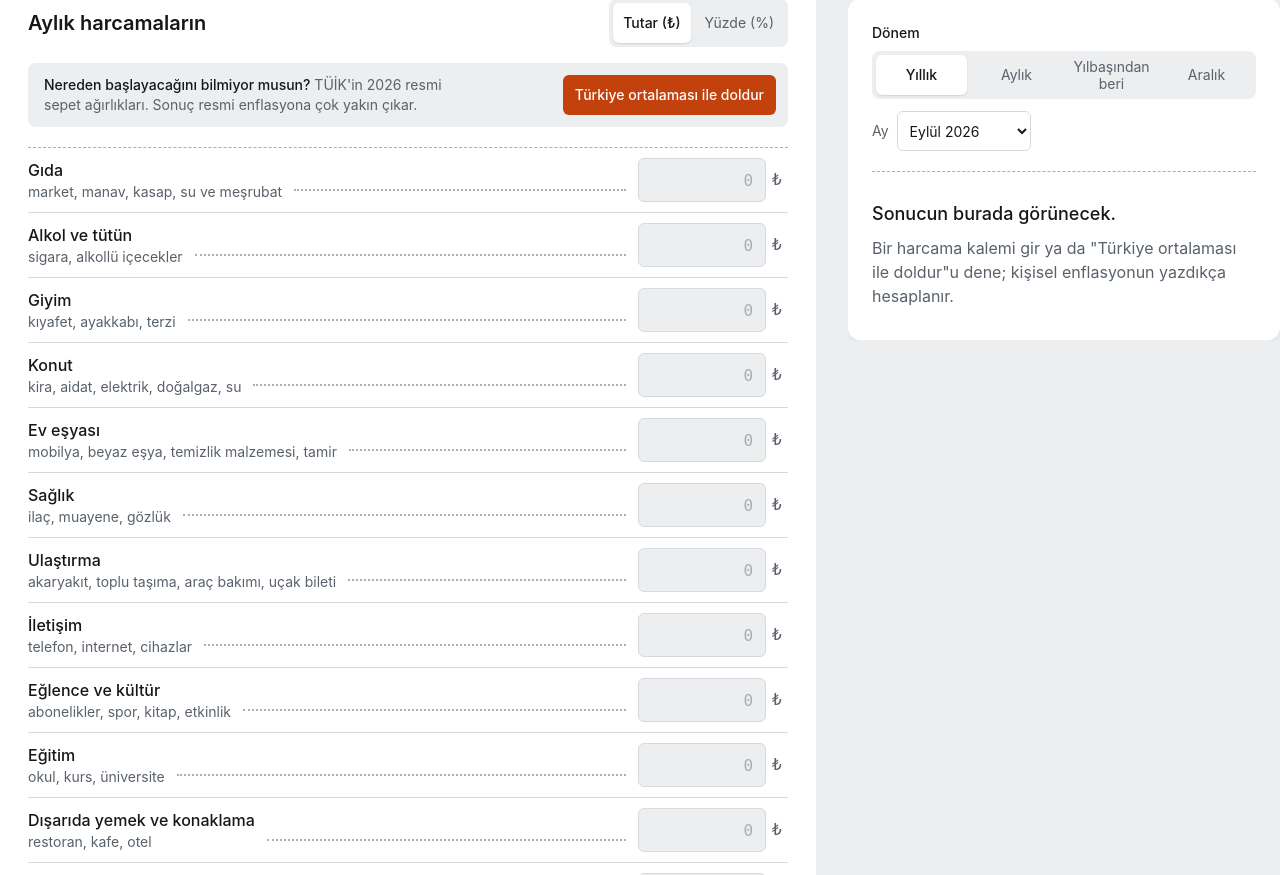
Scenario: Calculator › yüzde toplamı 100 değilse uyarır ve 100'e tamamlar
Click the radio button labelled "Yüzde (%)".
click(739, 23)  # box [705, 14, 774, 31]
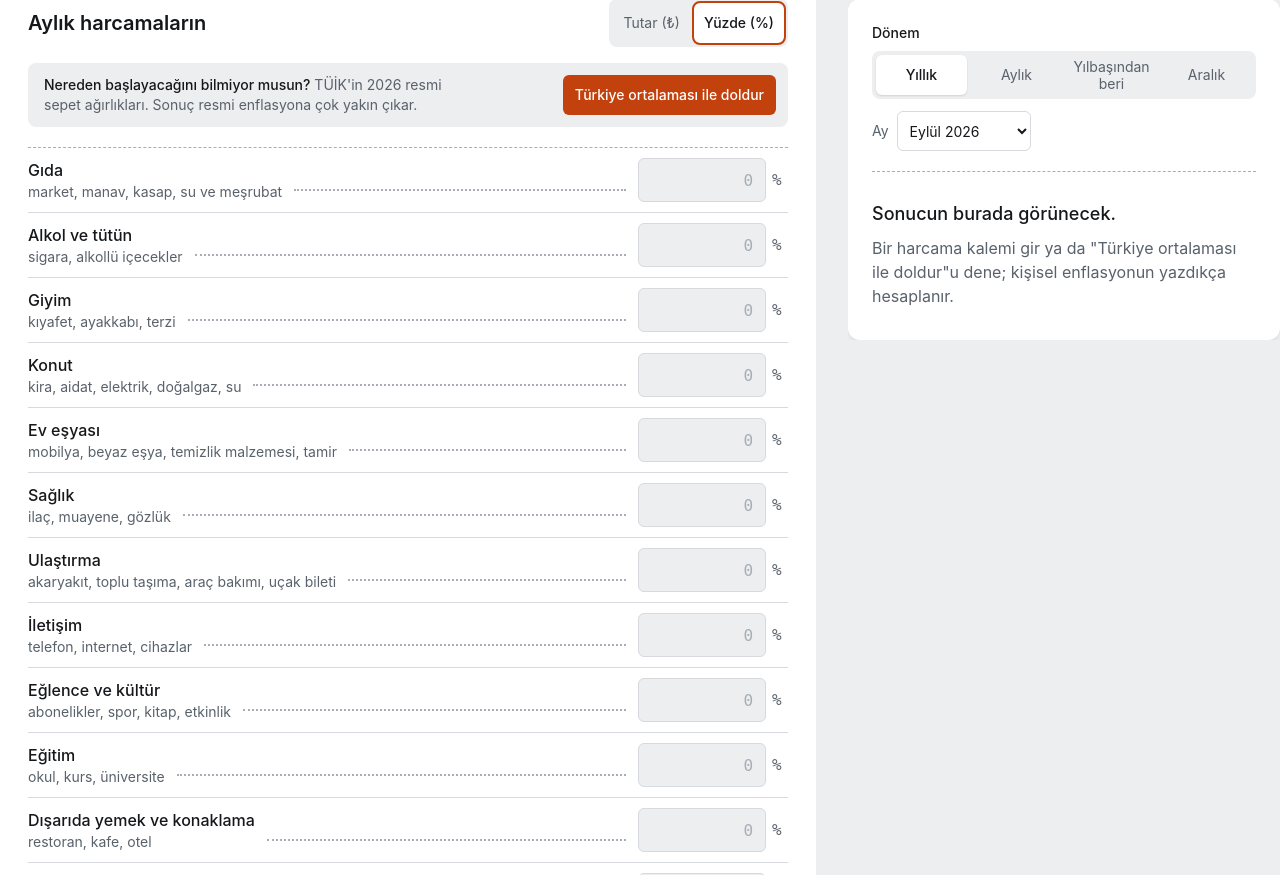
Type "60" into the field labelled "Gıda".
click(702, 180); type("60")  # box [638, 158, 766, 202]
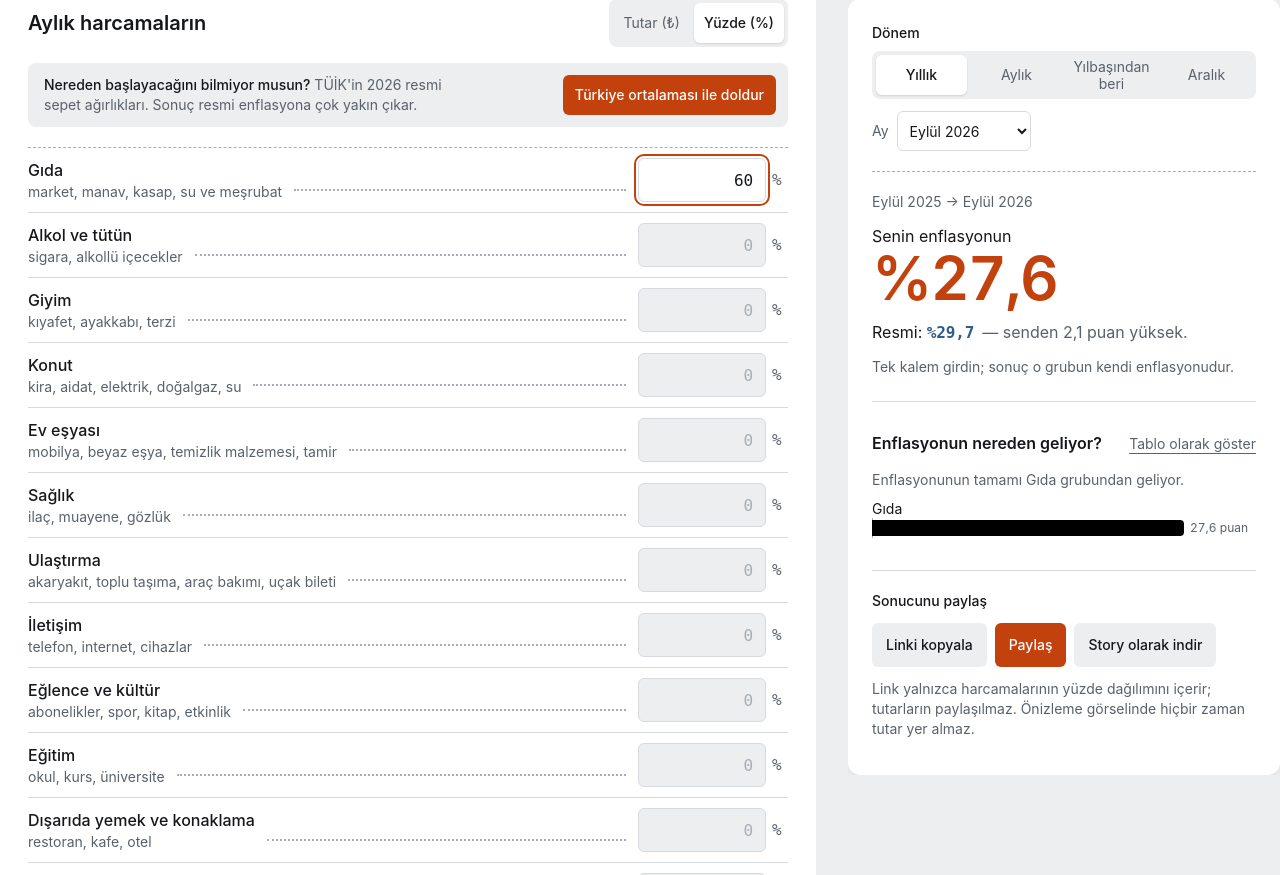
Type "60" into the field labelled "Konut".
click(702, 375); type("60")  # box [638, 353, 766, 397]
(page scrolled)
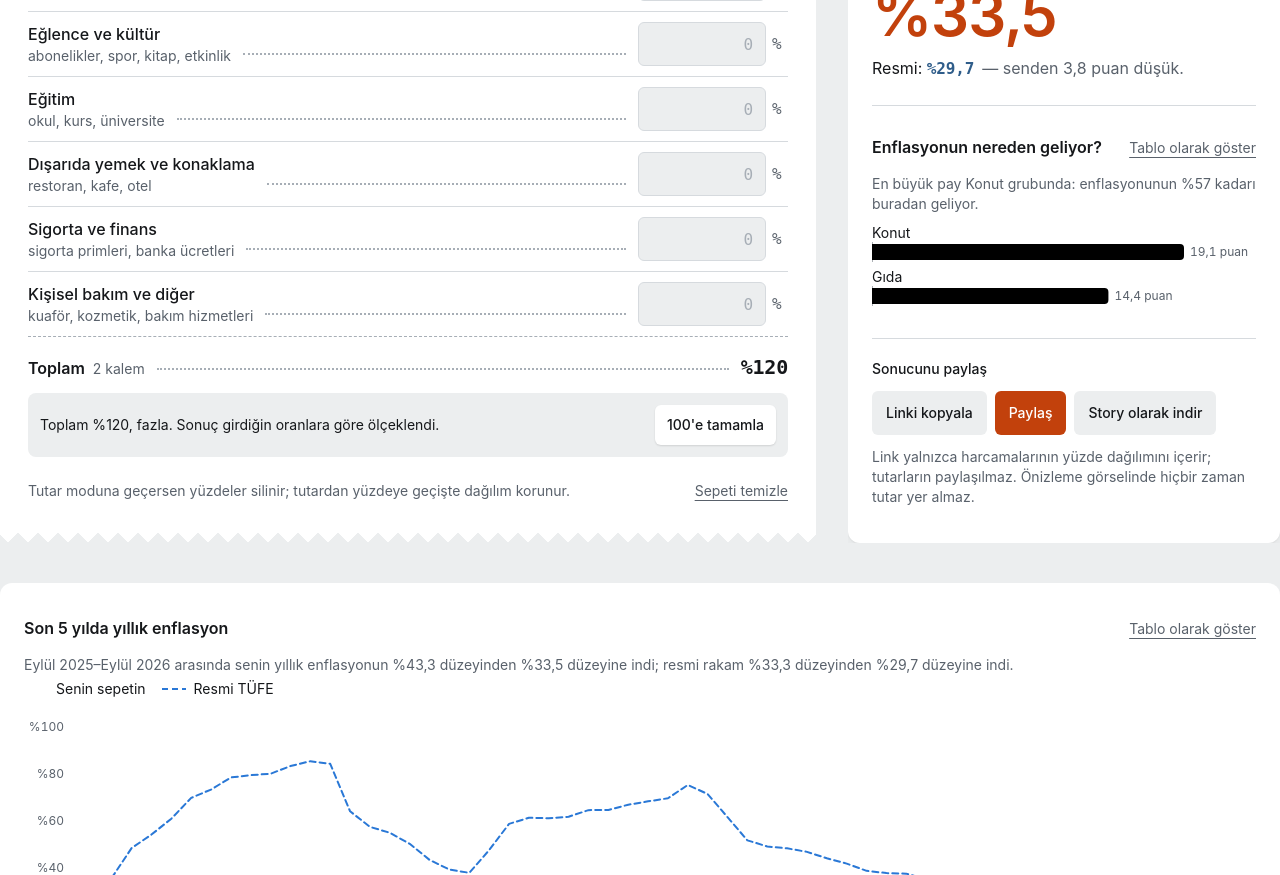
expect the text "Toplam %120, fazla. Sonuç girdiğin oranlara göre ölçeklendi." is shown: met, box [40, 415, 439, 435]
Click the button "100'e tamamla".
click(715, 425)  # box [655, 405, 776, 445]
(page scrolled)
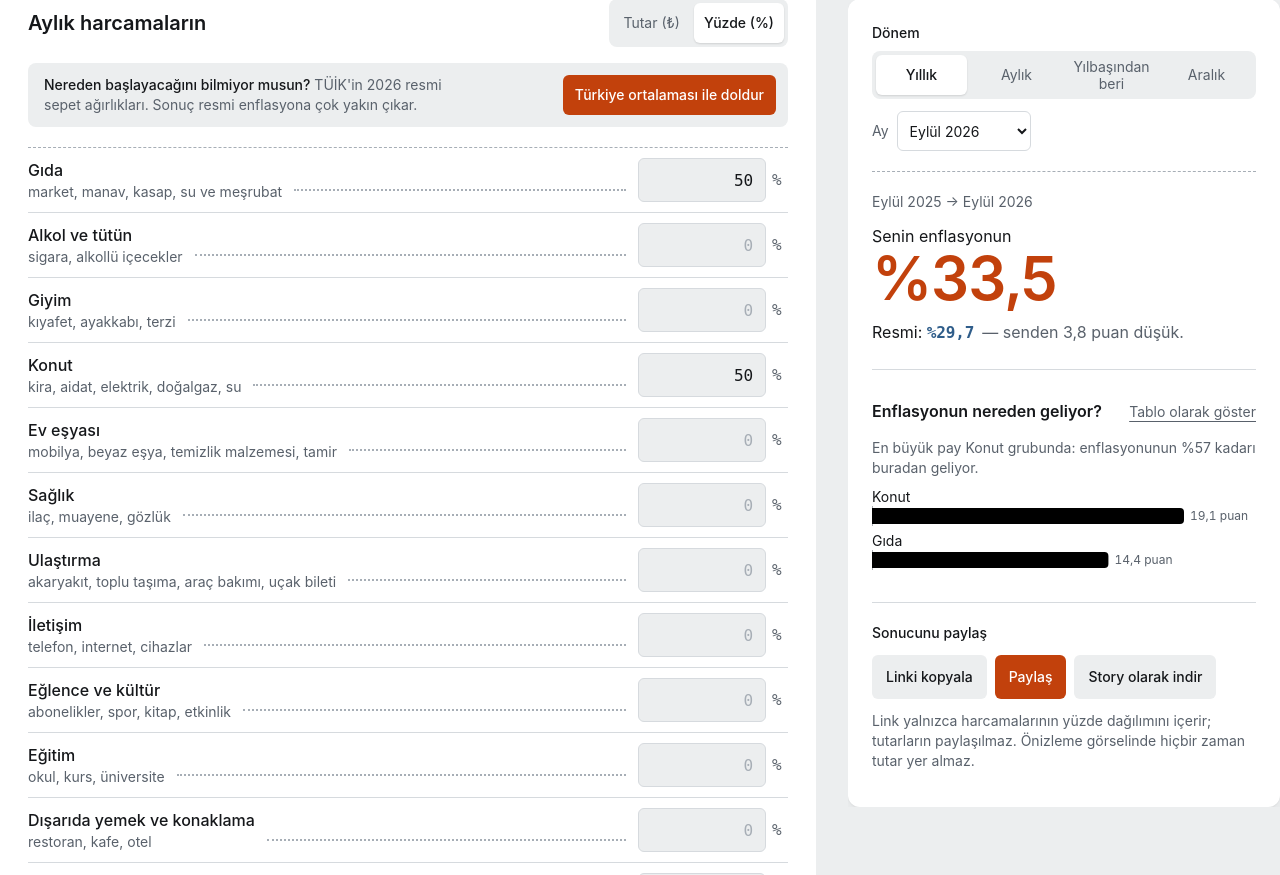
expect the field labelled "Gıda" holds "50": met, box [638, 158, 766, 202]
expect the text "Toplam %" is gone: met
